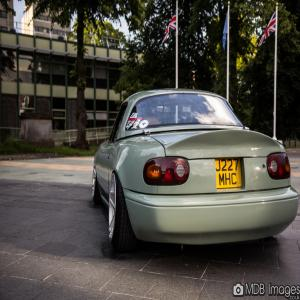Vehicle-registration-plate: (216, 159, 243, 193)
